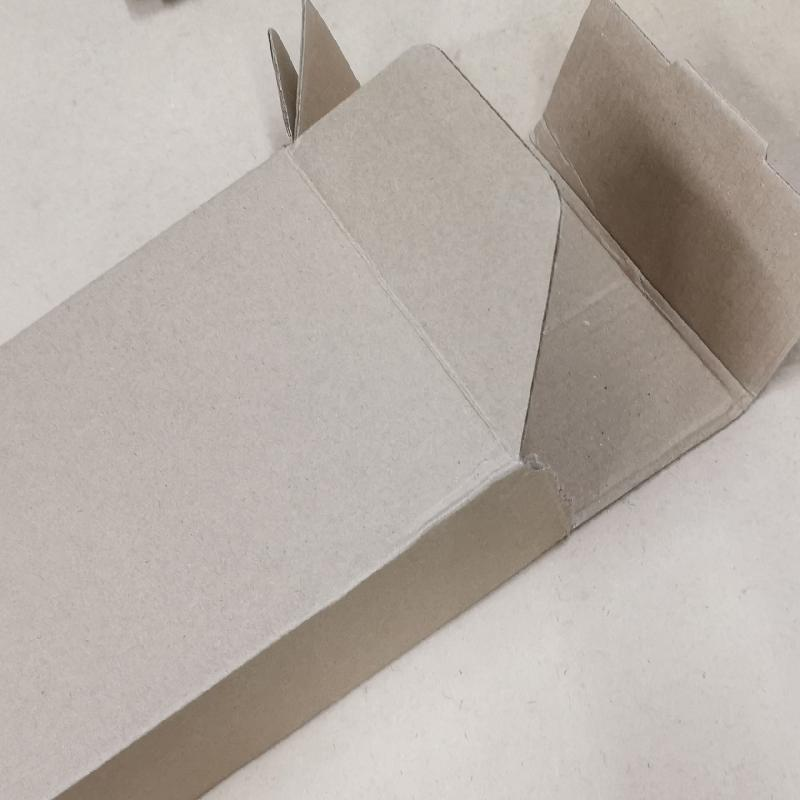boxes: (0, 22, 780, 772)
